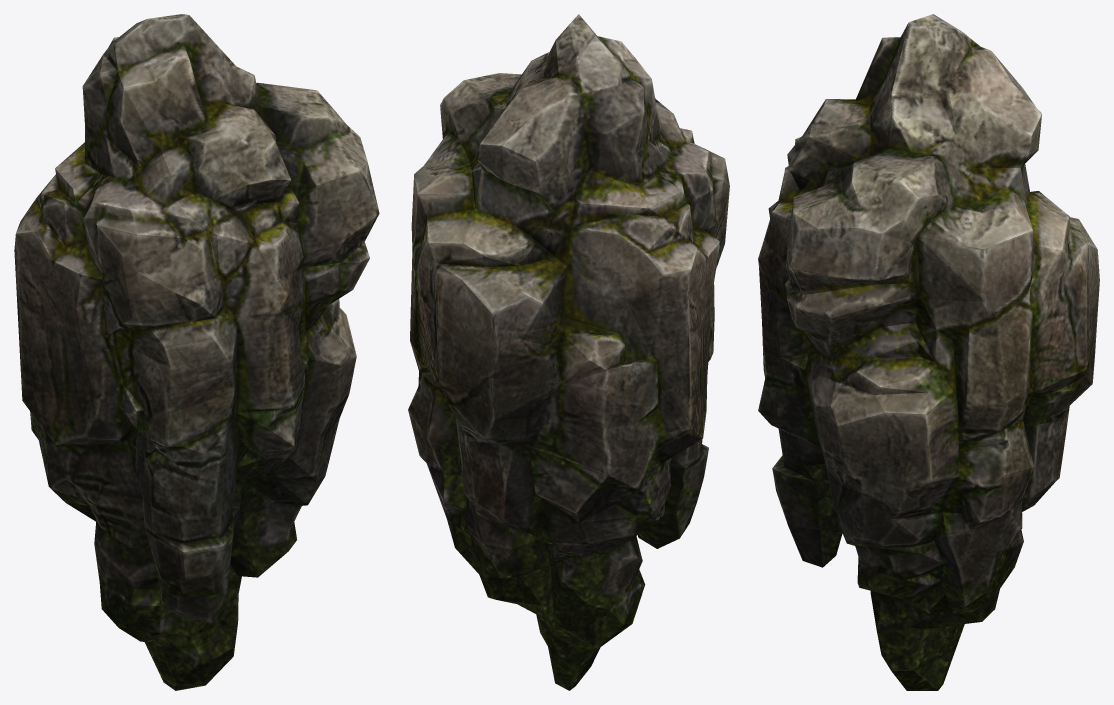
File: QYS_ys_A_01_01.FBX
3 renders of one model, left to right at view 1: azimuth 30°, elevation 25°; view 2: azimuth 150°, elevation 25°; view 3: azimuth 270°, elevation 25°, orthographic. The views are drawn at different scales.
Visible parts, largest first — view 1: QYS_ys_A_01_01; view 2: QYS_ys_A_01_01; view 3: QYS_ys_A_01_01.
Boxes of the visible parts, x1,y1,x2,y2 form: QYS_ys_A_01_01: (14,14,379,690); QYS_ys_A_01_01: (408,14,729,690); QYS_ys_A_01_01: (758,14,1099,690).
Size of the model in its own units: 1717 by 3757 by 1741.
